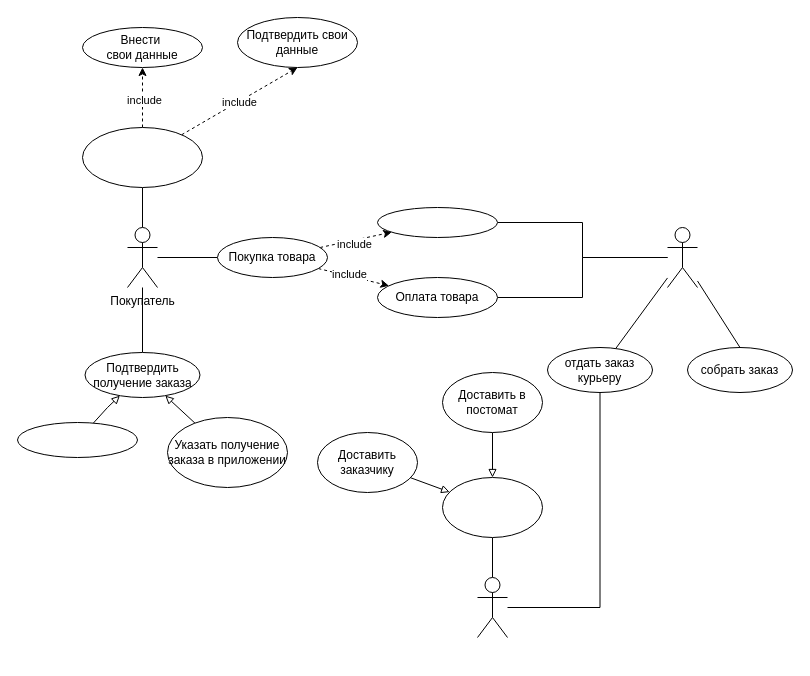
Some shapes in this 810 by 676 pixel diagram are drawn without their labels. Each missing label, with the centre of its shape:
"Выбор товара" belongs at point (437, 222).
"Доставить заказ" belongs at point (492, 507).
"Зарегистрироваться в системе" belongs at point (142, 157).
"Курьер" belongs at point (492, 607).
"Поставить роспись" belongs at point (77, 440).
"Фармацевт" belongs at point (682, 257).
